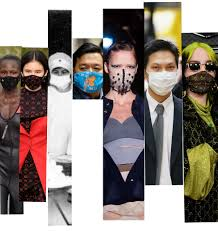masked: (143, 39, 179, 95), (102, 44, 143, 93), (181, 42, 218, 95), (72, 47, 102, 94), (19, 50, 48, 91), (48, 52, 72, 89), (1, 56, 19, 87)
